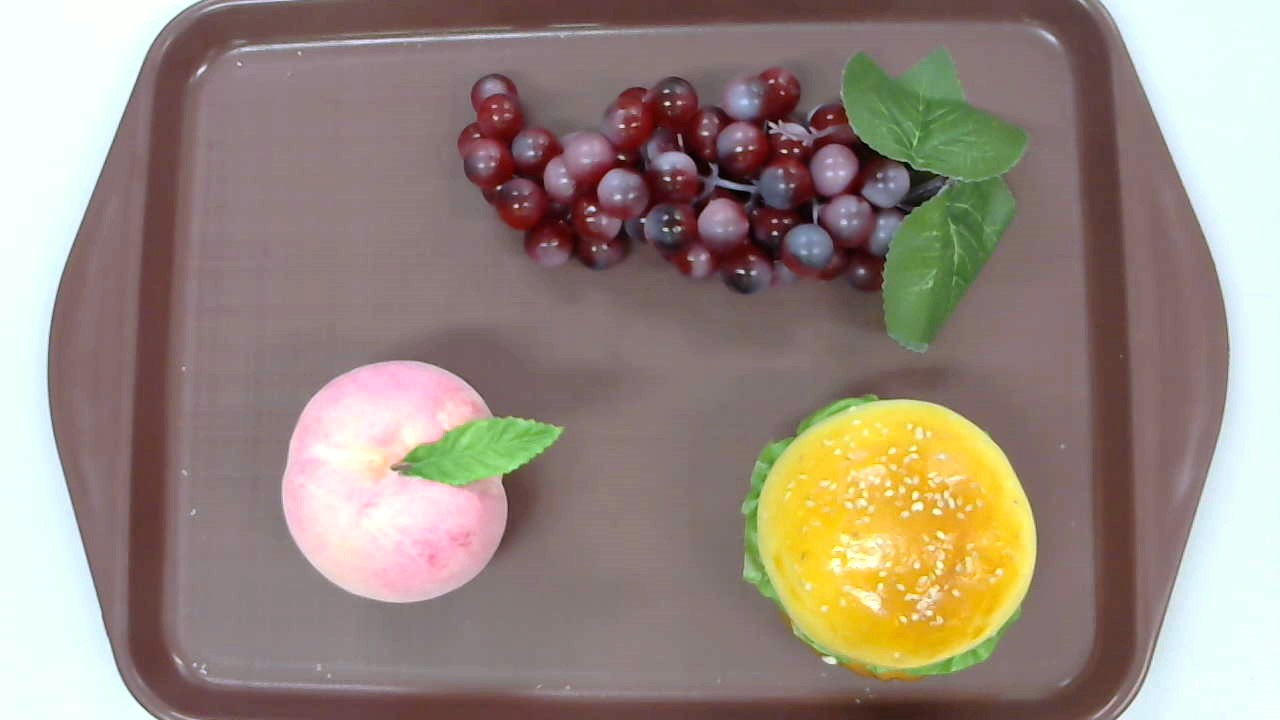grape: (455, 44, 1030, 355)
hamburger: (741, 392, 1039, 679)
peach: (281, 359, 565, 603)
